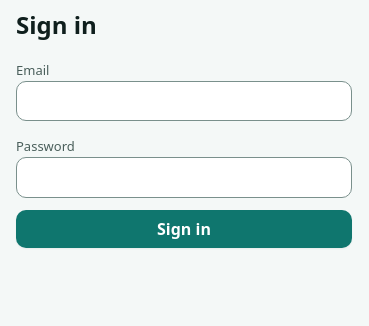
Login page › shows the API message when sign-in fails and stays on the page
This screenshot has width=369, height=326.
In the field labelled "Email": point(184, 101) [16,81,352,121], type "a@x.test"
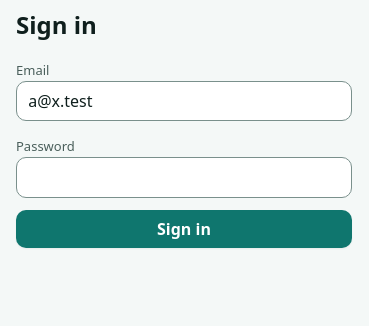
In the password field labelled "Password": point(184, 178) [16,157,352,198], type "pw"
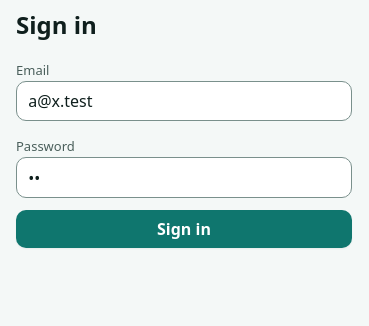
Click the button "Sign in": point(184, 229) [16,210,352,248]
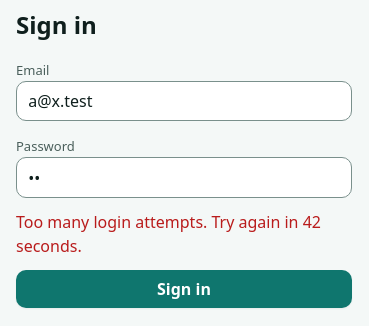
Check: the message reads "Too many login attempts. Try again in 42 seconds.", box [16,211,321,257]
